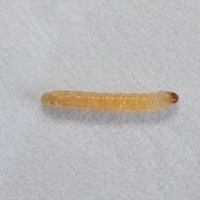insect: (41, 90, 178, 110)
